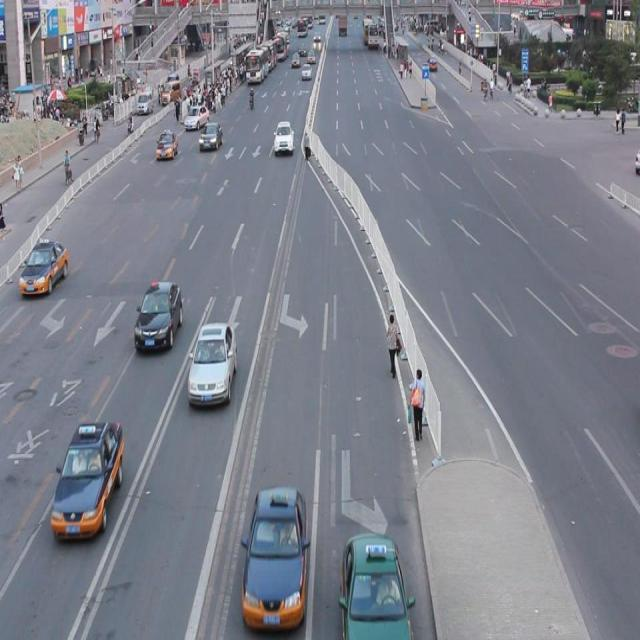car: (240, 484, 309, 630), (51, 419, 124, 537), (340, 530, 411, 640), (186, 322, 236, 407), (134, 277, 182, 352), (19, 236, 69, 297)
